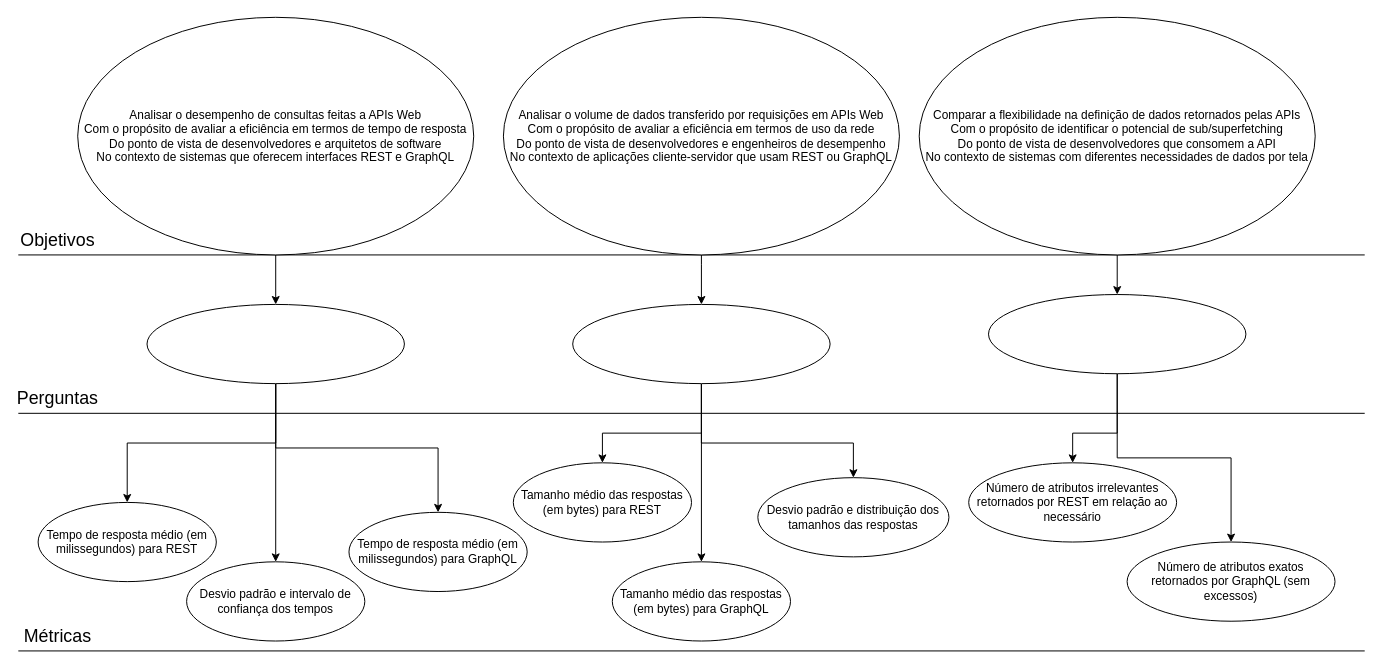
Some shapes in this 1383 by 669 pixel diagram are drawn without their labels. Each missing label, with the centre of its shape:
As consultas feitas via GraphQL são mais rápidas que as feitas via REST?: point 275,343
As respostas às consultas GraphQL têm tamanho menor do que as da REST?: point 701,343
O GraphQL evita mais superfetching e underfetching em comparação com REST?: point 1117,334
